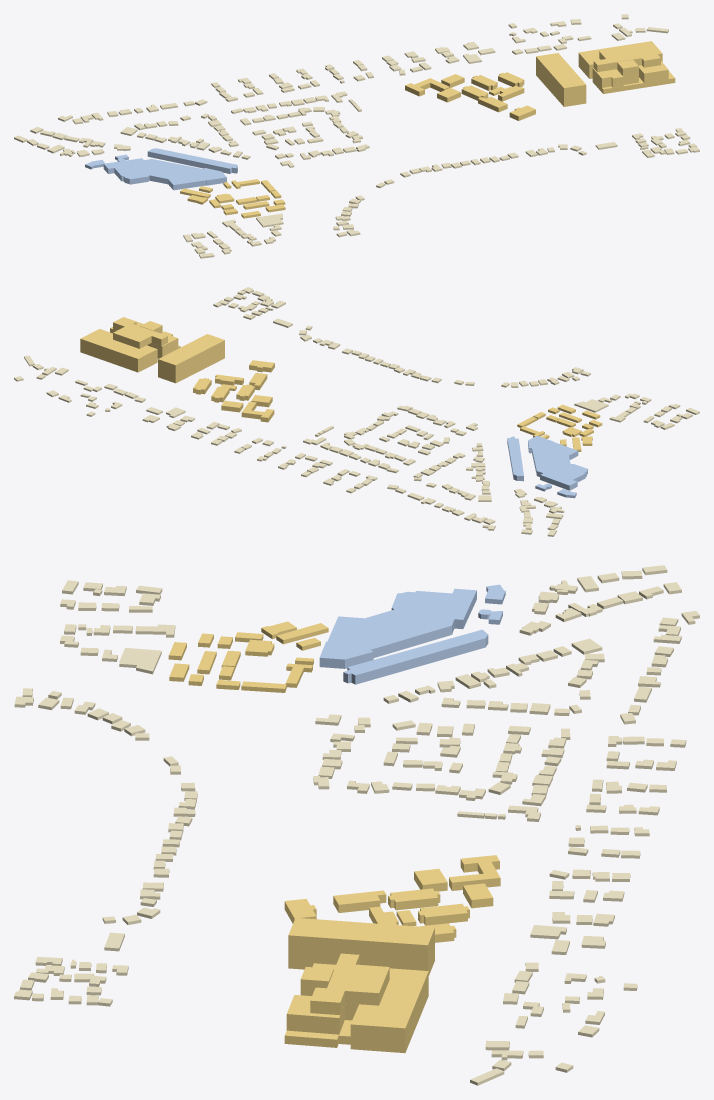
File: giraffe-gltf-export_5560-15sep21_opaque.glb
3 views of the same model, one above another, from view 1: azimuth 30°, elevation 25°; view 2: azimuth 150°, elevation 25°; view 3: azimuth 270°, elevation 25° (orthographic). The views are drawn at different scales.
Visible parts, largest first — view 1: 372322, 372072, 372076, 372074, 372321, 372075, 372078, 372077; view 2: 372322, 372072, 372076, 372074, 372321, 372075, 372078; view 3: 372322, 372072, 372076, 372074, 372321, 372075, 372078, 372081, 372082, 372084, 372320.
Part boxes in pixels (x1,y1,x2,y2): 372322: [103, 158, 226, 190]; 372072: [536, 53, 586, 106]; 372076: [578, 41, 668, 87]; 372074: [593, 46, 660, 72]; 372321: [147, 148, 237, 173]; 372075: [578, 62, 675, 93]; 372078: [405, 78, 449, 96]; 372077: [617, 60, 638, 84]; 372322: [528, 436, 587, 490]; 372072: [158, 334, 224, 383]; 372076: [80, 321, 178, 367]; 372074: [113, 317, 167, 348]; 372321: [507, 436, 523, 481]; 372075: [80, 345, 180, 372]; 372078: [241, 401, 274, 422]; 372322: [319, 588, 476, 668]; 372072: [288, 917, 434, 975]; 372076: [286, 963, 428, 1044]; 372074: [310, 953, 389, 1015]; 372321: [343, 629, 488, 684]; 372075: [284, 988, 428, 1053]; 372078: [449, 855, 500, 890]; 372081: [388, 888, 440, 910]; 372082: [418, 903, 469, 925]; 372084: [333, 890, 386, 912]; 372320: [119, 648, 161, 674].
Bounding box in the file's own units: 1072 × 36 × 600.
